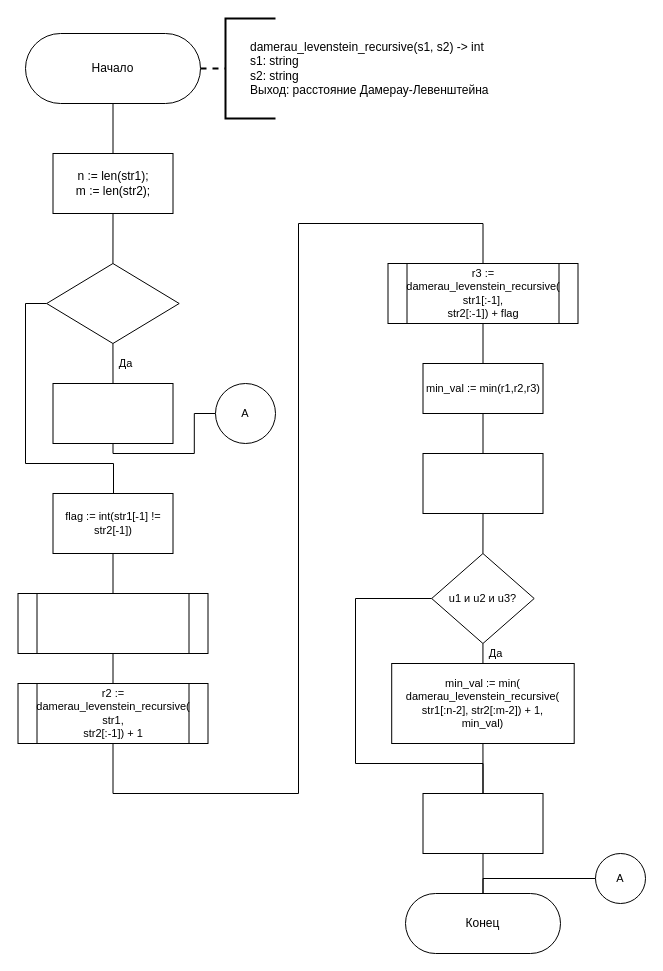
This 663x971 diagram has some shape labels left out. The box of each missing label's shape, as (x1, y1, x2, y2) in pixels:
n == 0 или m == 0?: (46, 262, 179, 344)
r1 := damerau_levenstein_recursive( str1[:-1], str2) + 1: (17, 592, 208, 654)
u1 := i > 1 and j > 1 u2 := str[i-1] == str2[j-2] u3 = str[i-2] == str2[j-1]: (422, 452, 543, 514)
Вернуть min_val: (422, 792, 543, 854)
Вернуть |n-m|: (52, 382, 173, 444)
